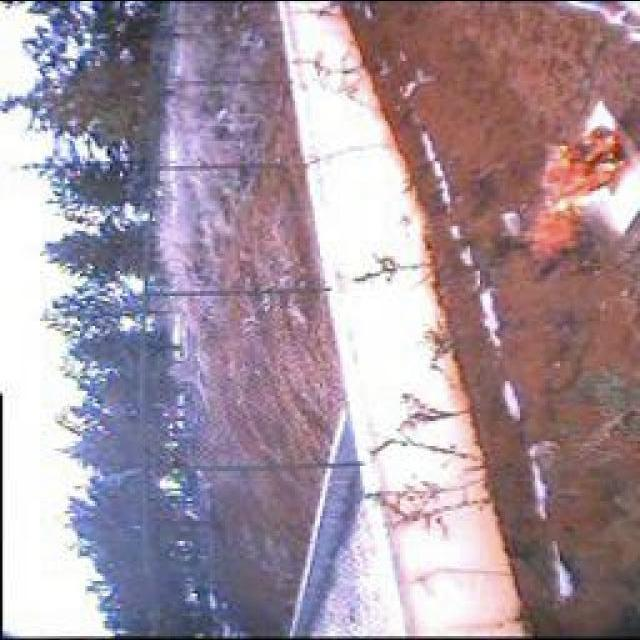Fire: (525, 124, 630, 258)
